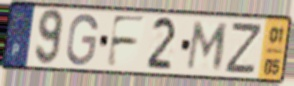2: (145, 15, 180, 74)
9: (32, 7, 64, 69)
F: (104, 13, 148, 70)
G: (64, 12, 100, 67)
M: (184, 19, 231, 72)
Z: (222, 22, 265, 76)
